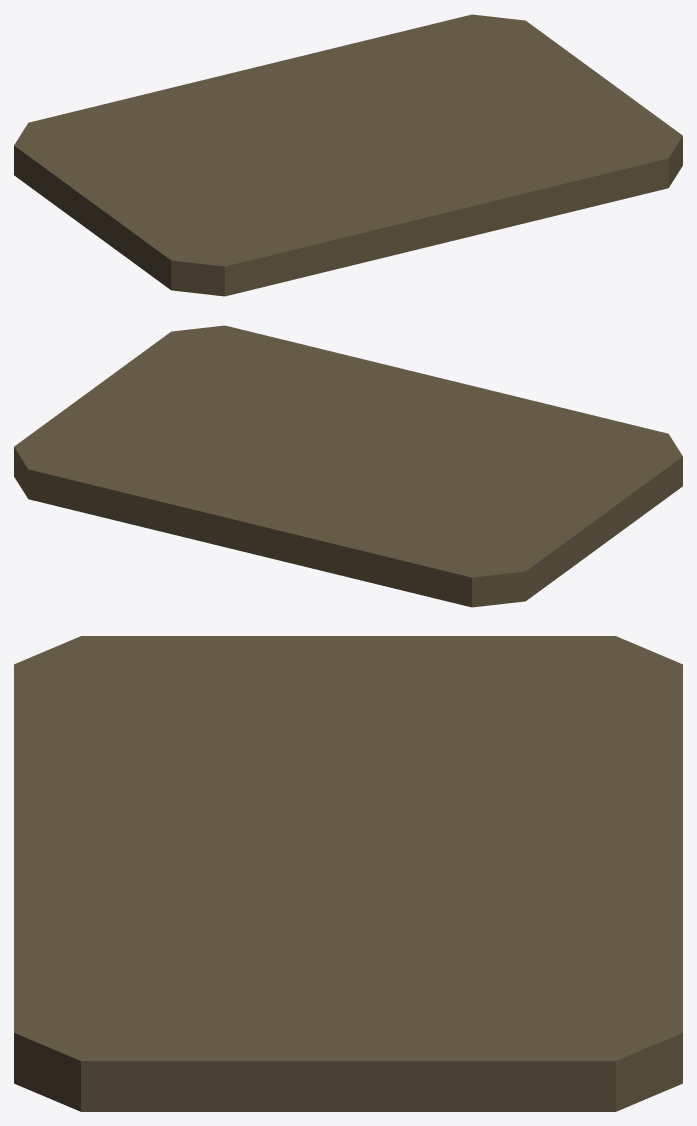
Rendered from KitchenChopping_Board.fbx.
3 views of the same model, one above another, from view 1: azimuth 30°, elevation 25°; view 2: azimuth 150°, elevation 25°; view 3: azimuth 270°, elevation 25° (orthographic). The views are drawn at different scales.
Visible parts, largest first — view 1: Chopping_Board; view 2: Chopping_Board; view 3: Chopping_Board.
Part boxes in pixels (bbox=[...]): Chopping_Board: bbox=[14, 14, 682, 296]; Chopping_Board: bbox=[14, 325, 682, 607]; Chopping_Board: bbox=[14, 636, 682, 1111].
Size of the model in its own units: 8.45 by 0.4712 by 5.62.
